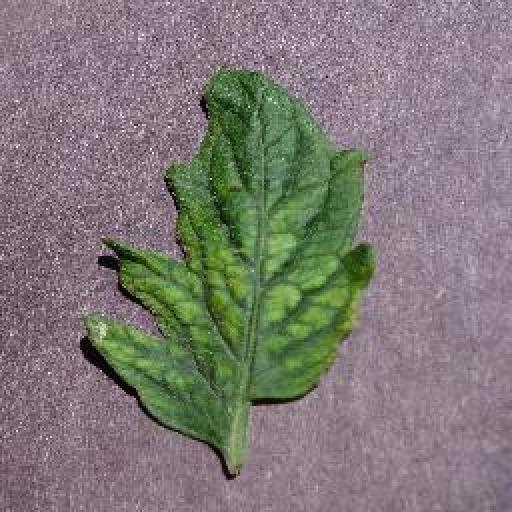disease_tomato: (84, 64, 378, 446)
